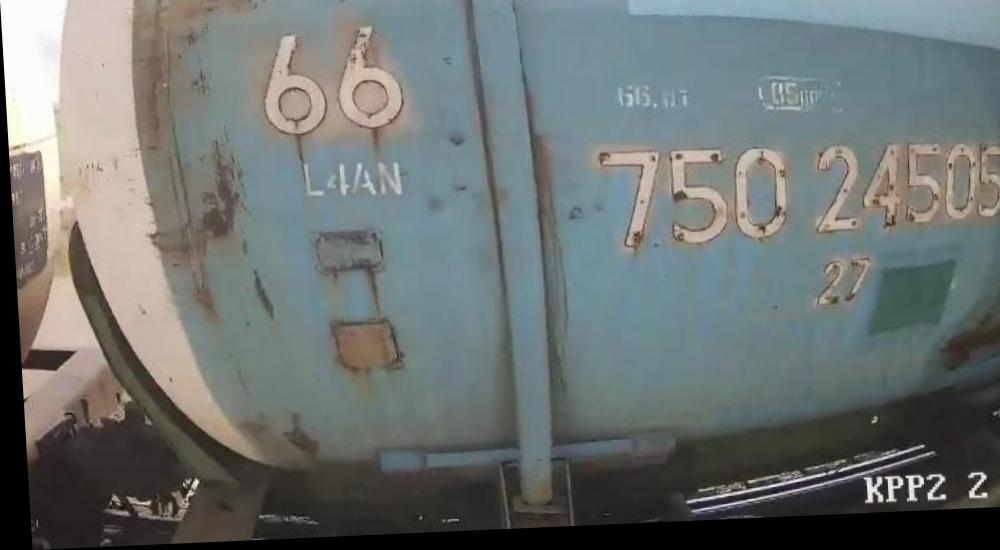Wagon-number: (592, 135, 1000, 259)
